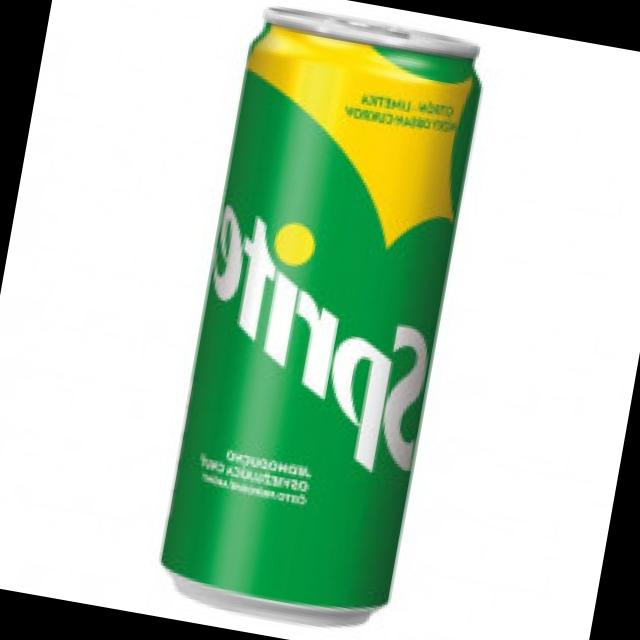sprite: (128, 0, 502, 629)
